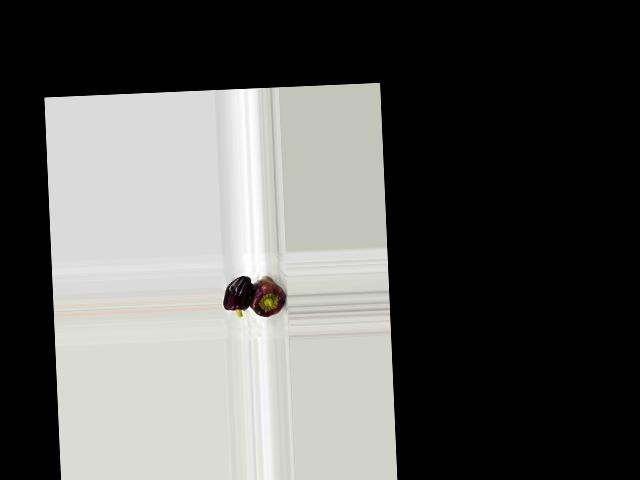bell_pepper: (247, 267, 287, 325)
